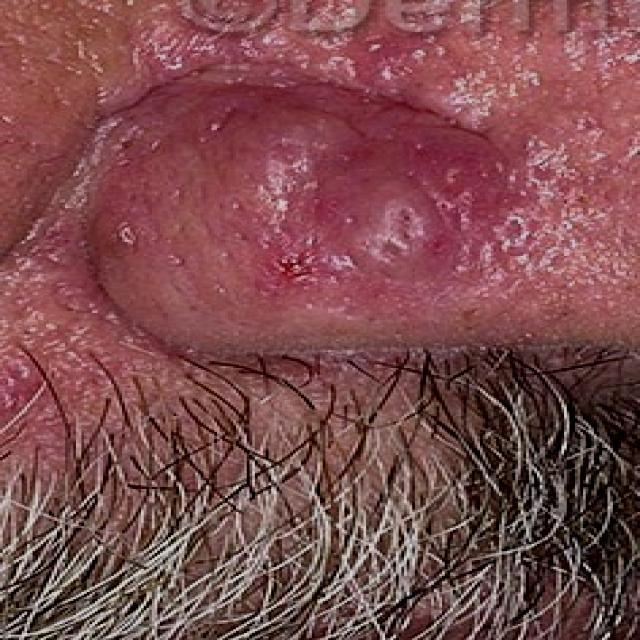Rosacea: (106, 93, 508, 287)
